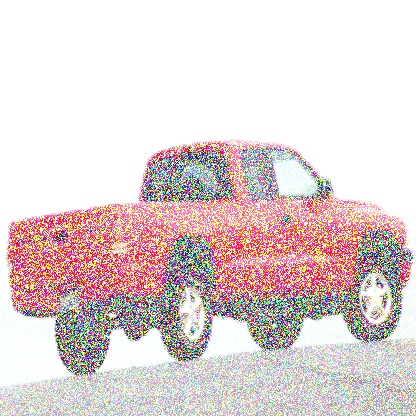Vehicle: (5, 136, 415, 381)
